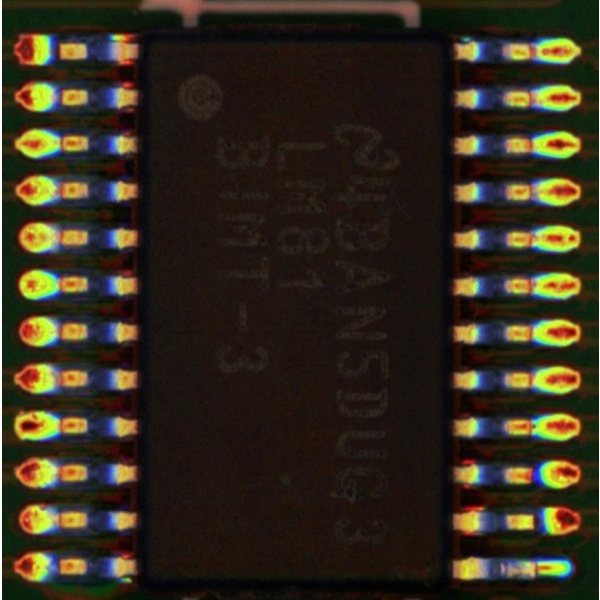Bad_podu: (525, 561, 554, 576)
